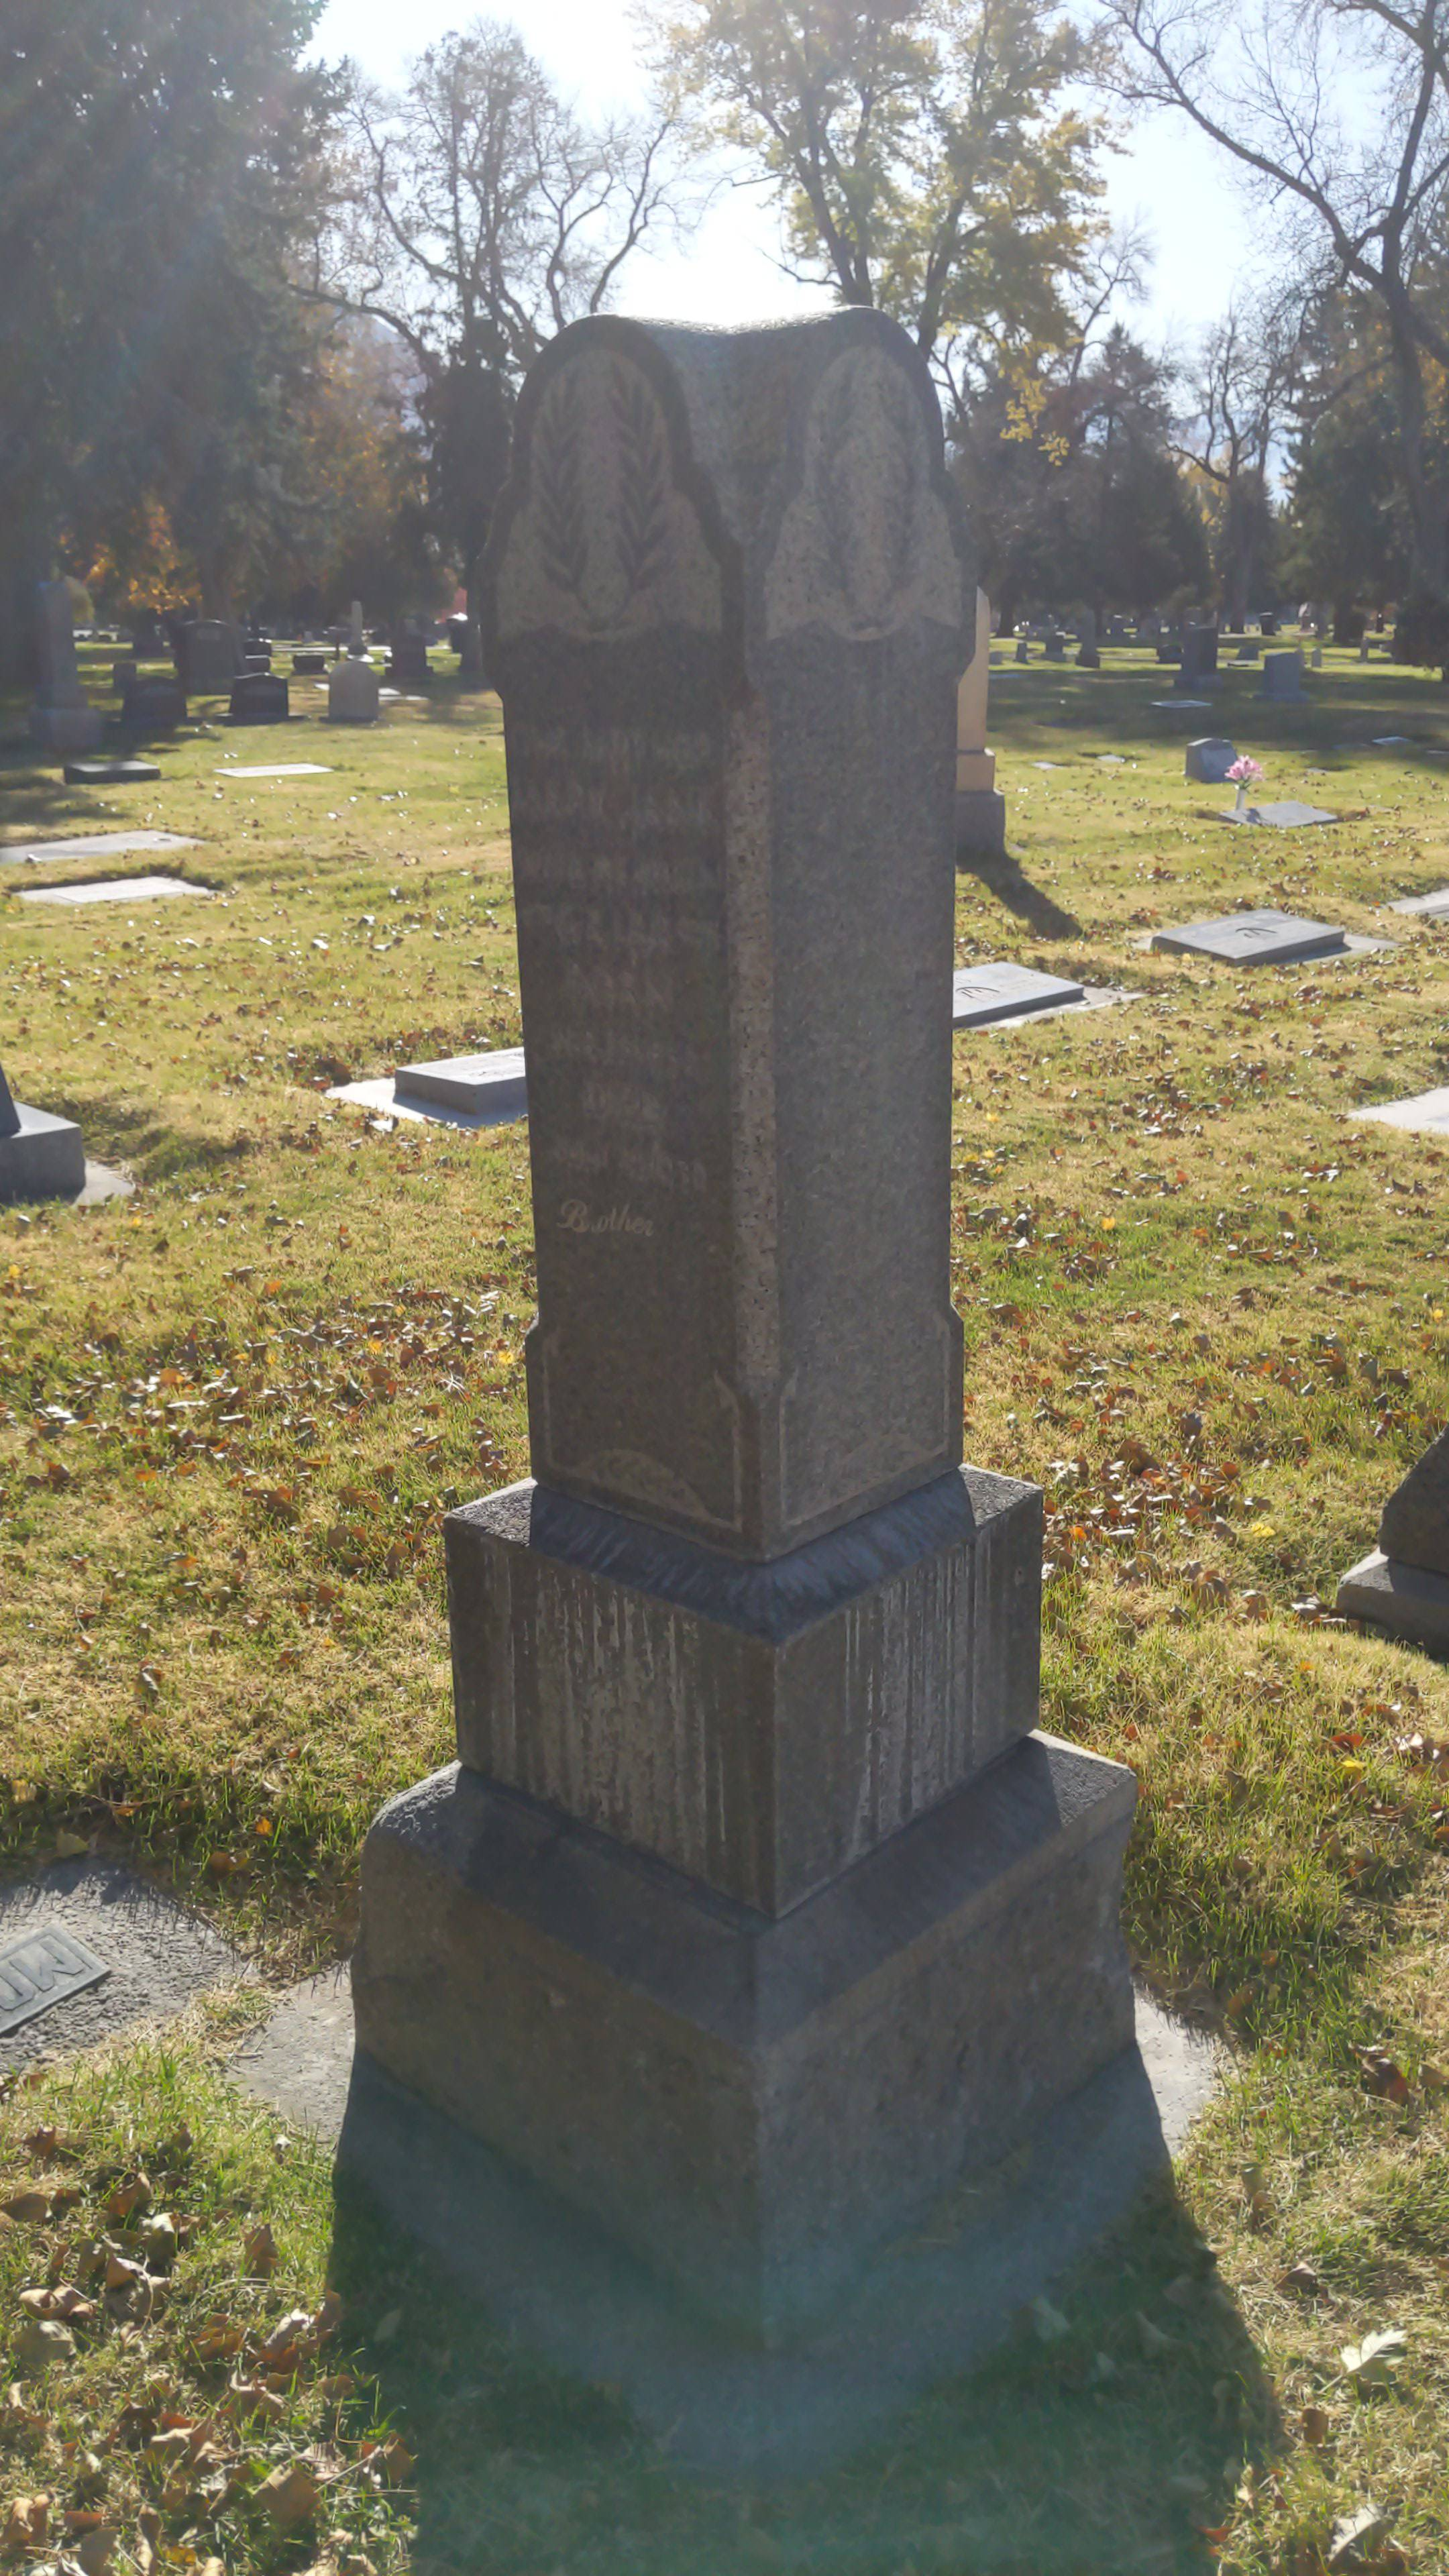obelisk: (446, 313, 1030, 1920)
